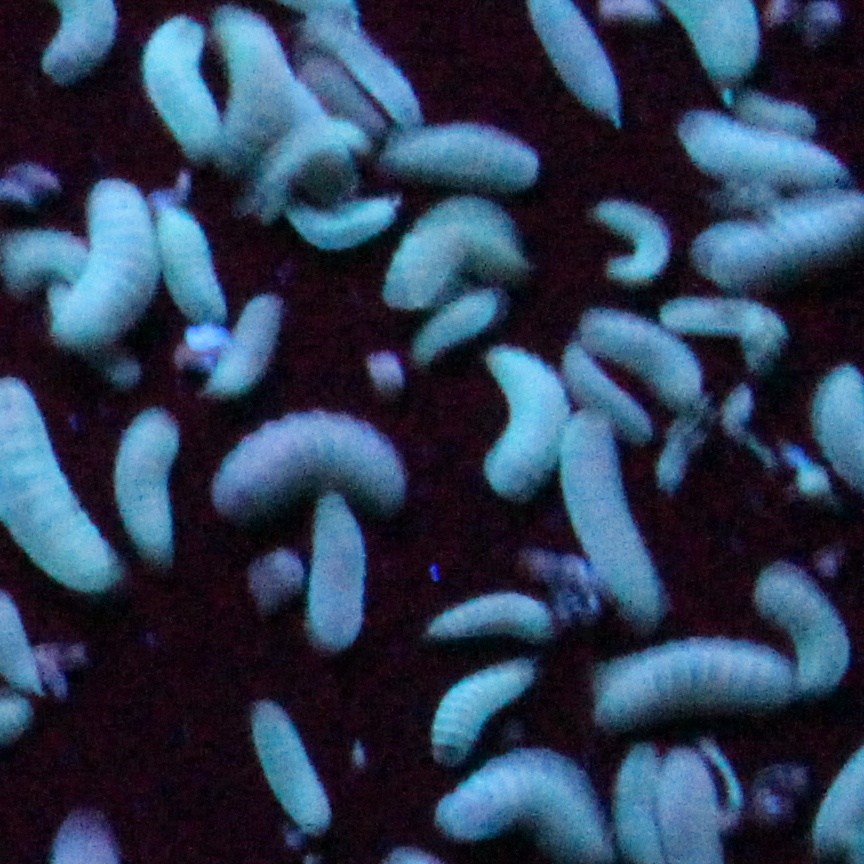larve: (542, 415, 673, 635), (201, 400, 419, 523), (47, 156, 155, 353), (750, 543, 852, 712), (281, 484, 380, 651), (416, 643, 542, 764), (248, 690, 342, 836), (150, 200, 232, 323), (594, 184, 680, 292), (202, 294, 284, 405), (281, 195, 411, 259)
